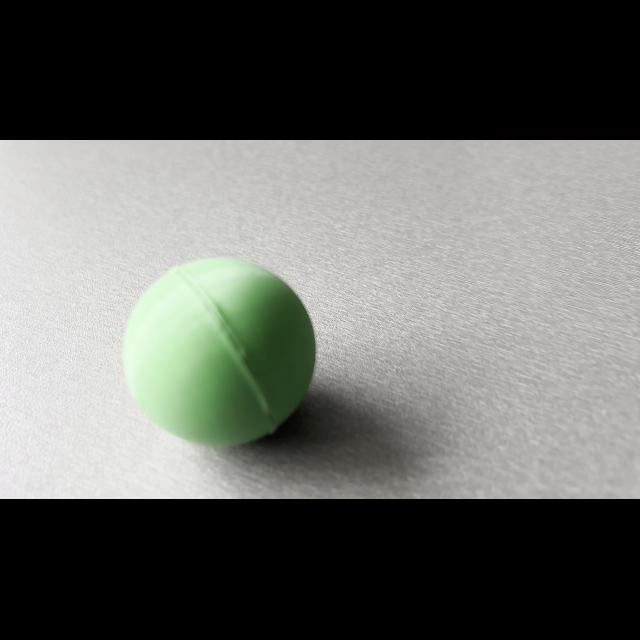objects: (120, 253, 322, 452)
